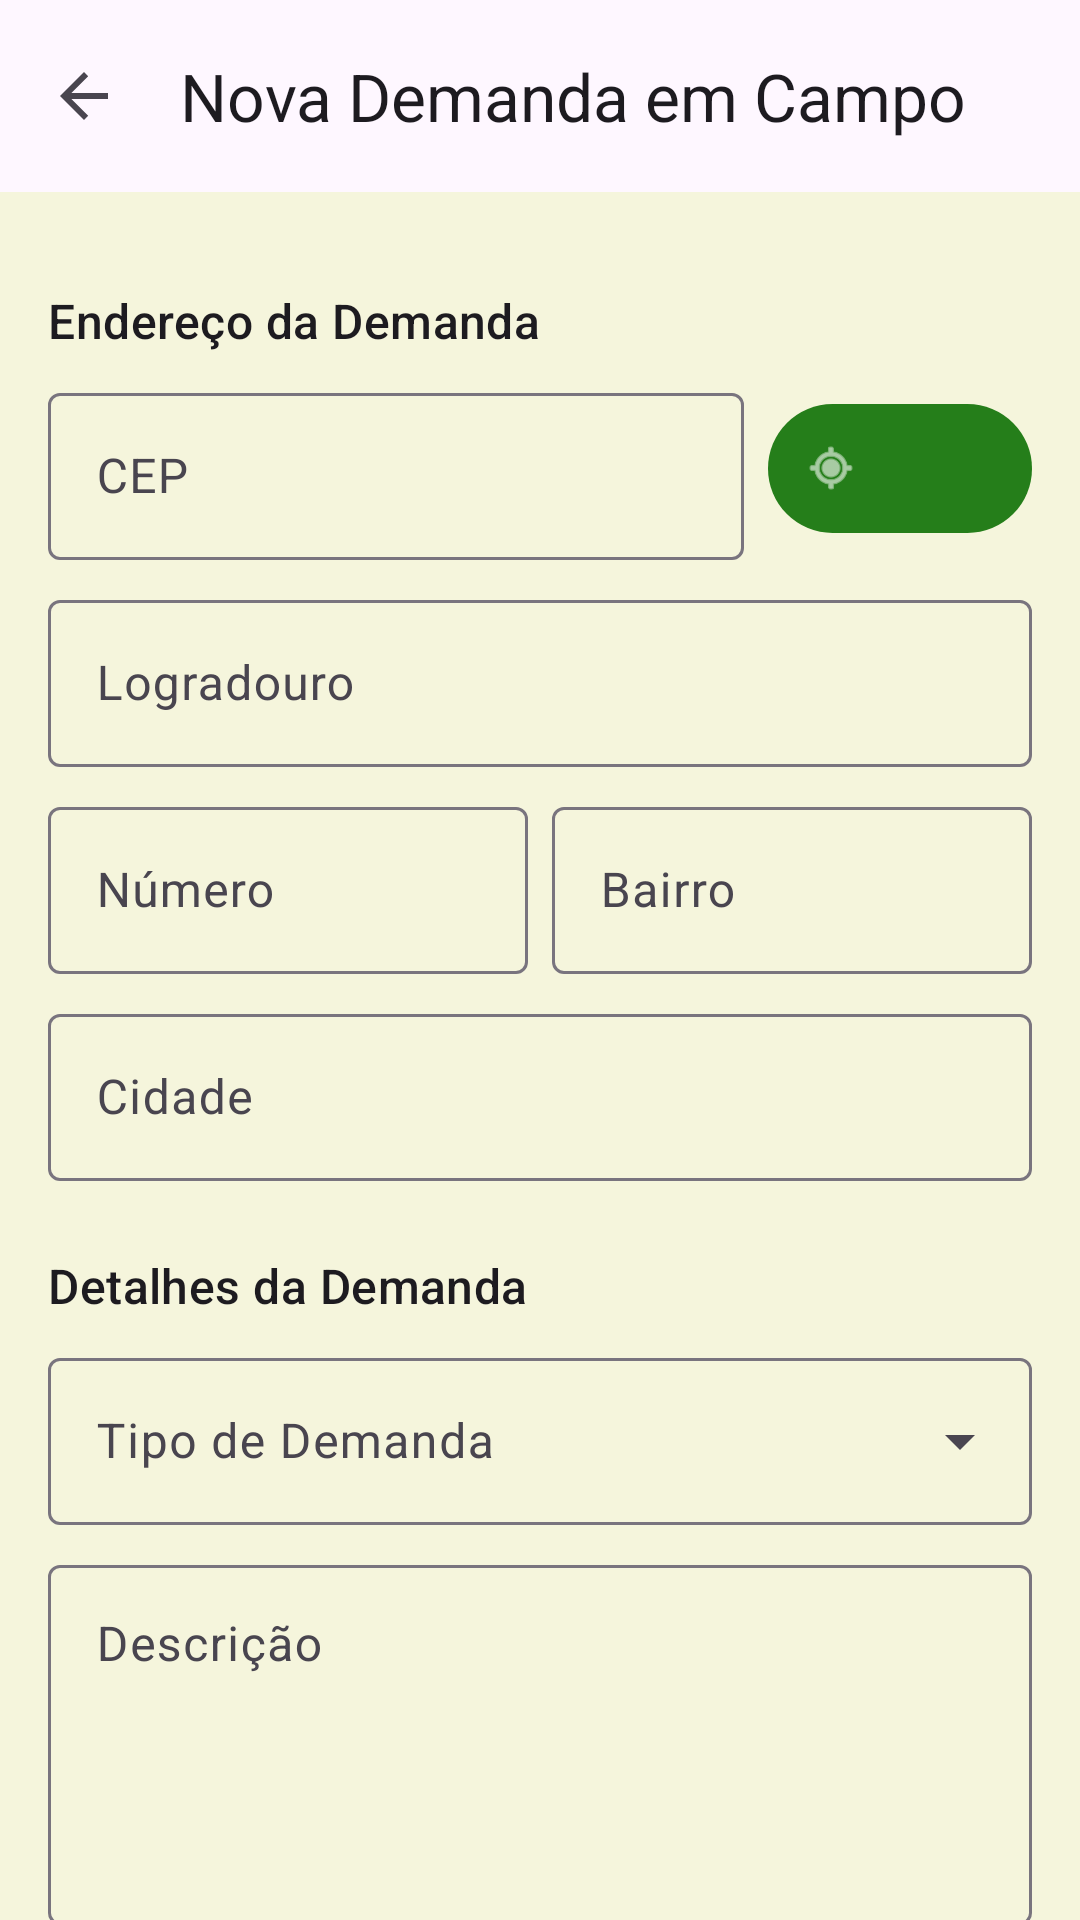

Where icons sit on this 1080×1920 app screen, as [x1,y1,x2,y2]:
mylocation: [768,404,1032,533]
